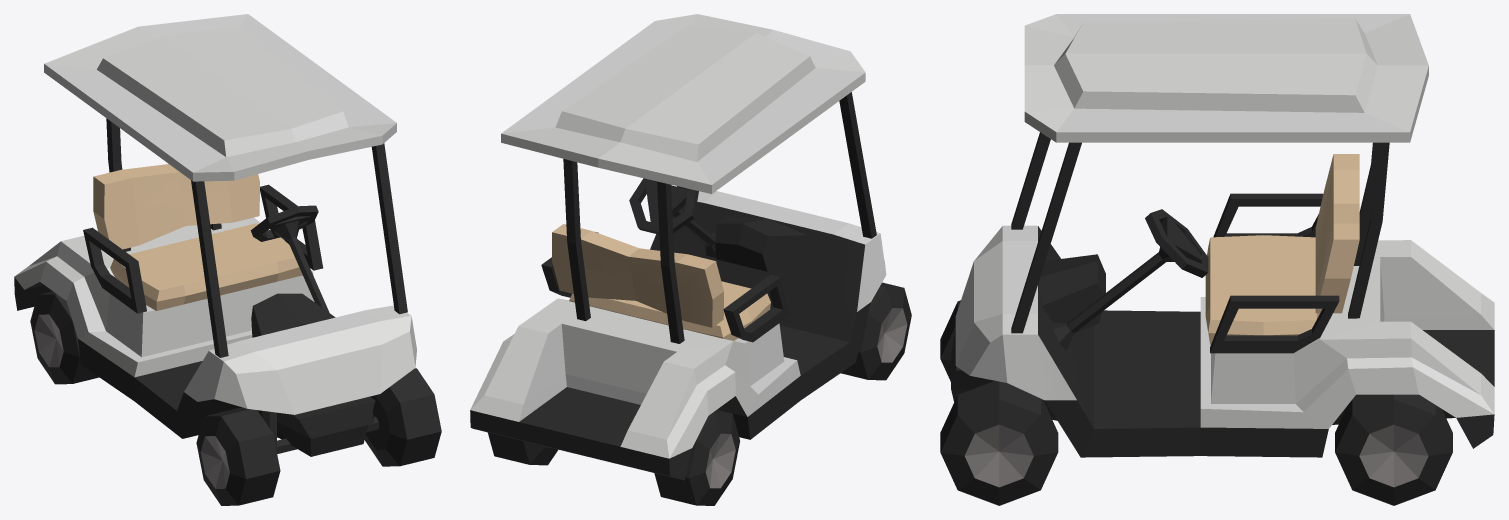
The model's file is vehicles_golf-cart.fbx.
3 renders of one model, left to right at view 1: azimuth 30°, elevation 25°; view 2: azimuth 150°, elevation 25°; view 3: azimuth 270°, elevation 25°, orthographic. The views are drawn at different scales.
Visible parts, largest first — view 1: golf_cart_base, golf_cart_wheel_FR, golf_cart_wheel_FL, golf_cart_wheel_BR; view 2: golf_cart_base, golf_cart_wheel_BR, golf_cart_wheel_FR, golf_cart_wheel_BL; view 3: golf_cart_base, golf_cart_wheel_FL, golf_cart_wheel_BL, golf_cart_wheel_FR.
Part boxes in pixels (bbox=[...]): golf_cart_base: bbox=[14, 14, 416, 456]; golf_cart_wheel_FR: bbox=[196, 408, 280, 505]; golf_cart_wheel_FL: bbox=[364, 368, 441, 466]; golf_cart_wheel_BR: bbox=[30, 291, 99, 384]; golf_cart_base: bbox=[470, 14, 886, 480]; golf_cart_wheel_BR: bbox=[654, 409, 739, 505]; golf_cart_wheel_FR: bbox=[841, 282, 911, 380]; golf_cart_wheel_BL: bbox=[487, 432, 557, 465]; golf_cart_base: bbox=[951, 14, 1494, 457]; golf_cart_wheel_FL: bbox=[940, 381, 1058, 505]; golf_cart_wheel_BL: bbox=[1335, 394, 1452, 505]; golf_cart_wheel_FR: bbox=[940, 300, 960, 381].
Size of the model in its own units: 103 by 157 by 200.
